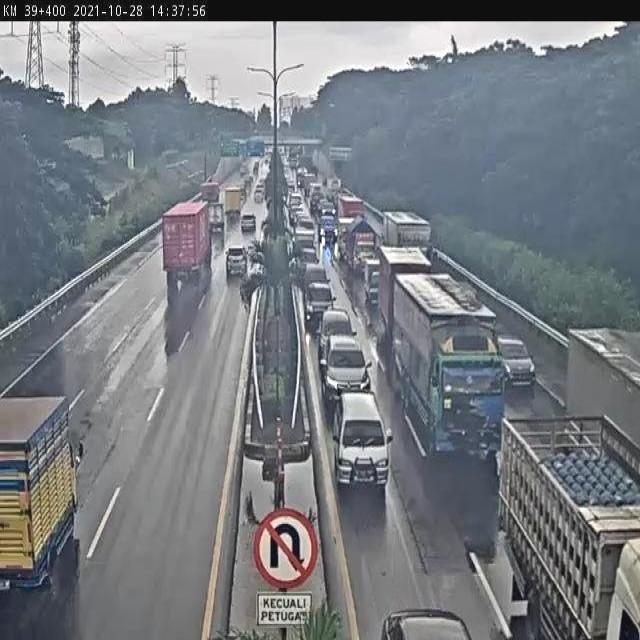Car: (335, 395, 387, 487), (321, 334, 371, 411), (378, 606, 476, 640), (318, 308, 354, 372), (496, 335, 536, 391), (305, 279, 334, 329), (362, 258, 381, 306), (225, 246, 247, 277), (240, 213, 256, 233), (254, 189, 264, 203)
Truck: (480, 394, 639, 640), (386, 267, 500, 460), (0, 398, 95, 606), (152, 208, 210, 291), (381, 212, 434, 252), (221, 181, 245, 223), (202, 204, 226, 236), (196, 181, 222, 207)
